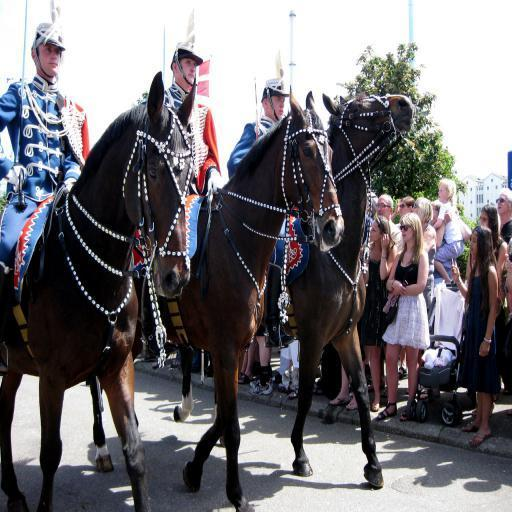horse: (84, 85, 346, 509), (173, 93, 413, 487), (0, 69, 197, 508)
